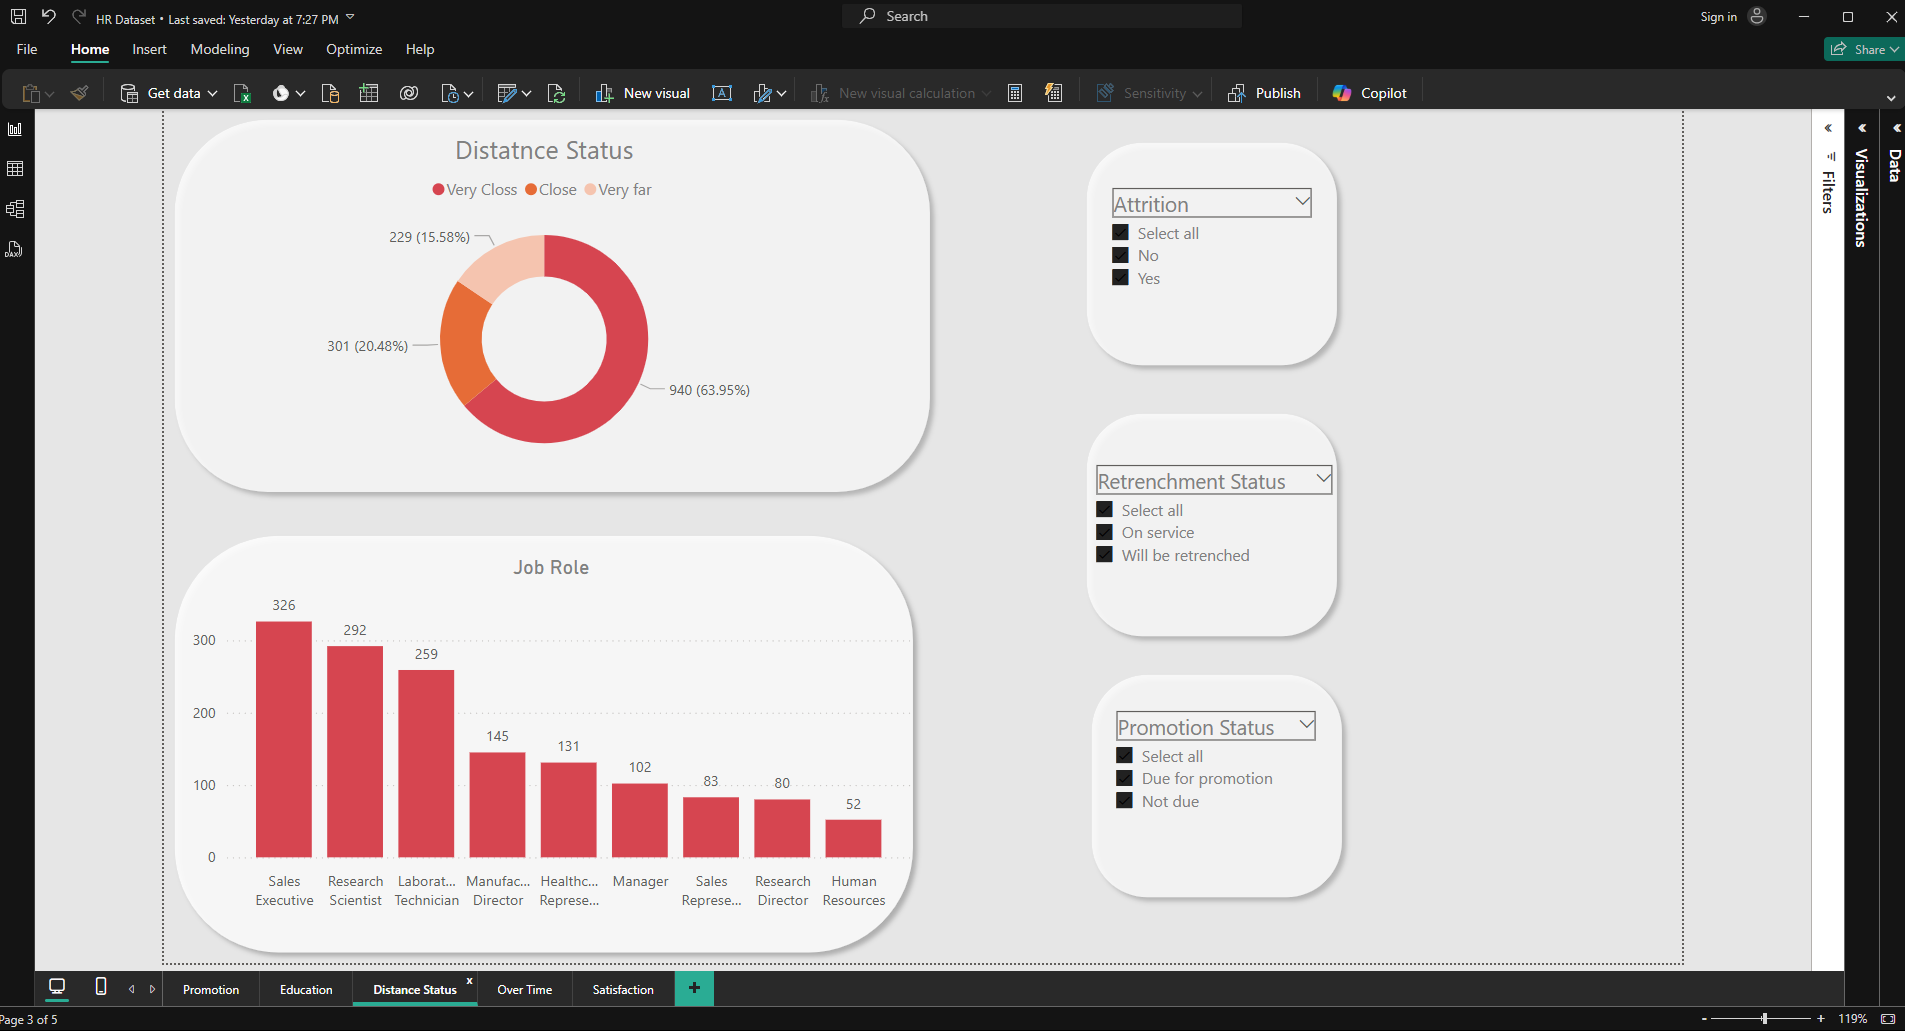

Layout of this report page (visuals, bound fields, positions):
{"tool":"powerbi","page":{"name":"Distance Status","canvas":[1280,720],"ordinal":2},"visuals":[{"type":"shape","box":[0,350.6,640.4,369.4],"z":0},{"type":"shape","box":[0,0,654.7,331.8],"z":1000},{"type":"donutChart","title":"Distatnce Status","fields":{"Category":["HR-Employee-Attrition.Distatnce Status"],"Y":["new measures.Total Emp"]},"box":[46.5,19.7,548.3,292.5],"z":3000},{"type":"clusteredColumnChart","title":"Job Role","fields":{"Category":["HR-Employee-Attrition.JobRole"],"Y":["new measures.Total Emp"]},"box":[18.8,375.7,616.2,305.9],"z":4000},{"type":"shape","box":[769.2,247.8,229,205.7],"z":5002},{"type":"slicer","fields":{"Values":["HR-Employee-Attrition.Retrenchment Status"]},"box":[772.8,295.2,225.4,129.7],"z":5003},{"type":"shape","box":[769.2,19.7,229,205.7],"z":5004},{"type":"shape","box":[772.8,467.8,229,205.7],"z":5005},{"type":"slicer","fields":{"Values":["HR-Employee-Attrition.Attrition"]},"box":[786.2,61.7,194.1,121.6],"z":5006},{"type":"slicer","fields":{"Values":["HR-Employee-Attrition.Promotion Status"]},"box":[789.8,502.7,194.1,136],"z":5007}]}

Visuals, with their boxes on the page's 1280x720 design canvas (x1, y1, x2, y2). These are canvas units, not pixel positions in the 1905x1031 screenshot, which may show the page scaled, cropped or inside an application window:
shape: <box>0,351,640,720</box>
shape: <box>0,0,655,332</box>
"Distatnce Status" donutChart: <box>46,20,595,312</box>
"Job Role" clusteredColumnChart: <box>19,376,635,682</box>
shape: <box>769,248,998,454</box>
slicer - HR-Employee-Attrition.Retrenchment Status: <box>773,295,998,425</box>
shape: <box>769,20,998,225</box>
shape: <box>773,468,1002,674</box>
slicer - HR-Employee-Attrition.Attrition: <box>786,62,980,183</box>
slicer - HR-Employee-Attrition.Promotion Status: <box>790,503,984,639</box>
